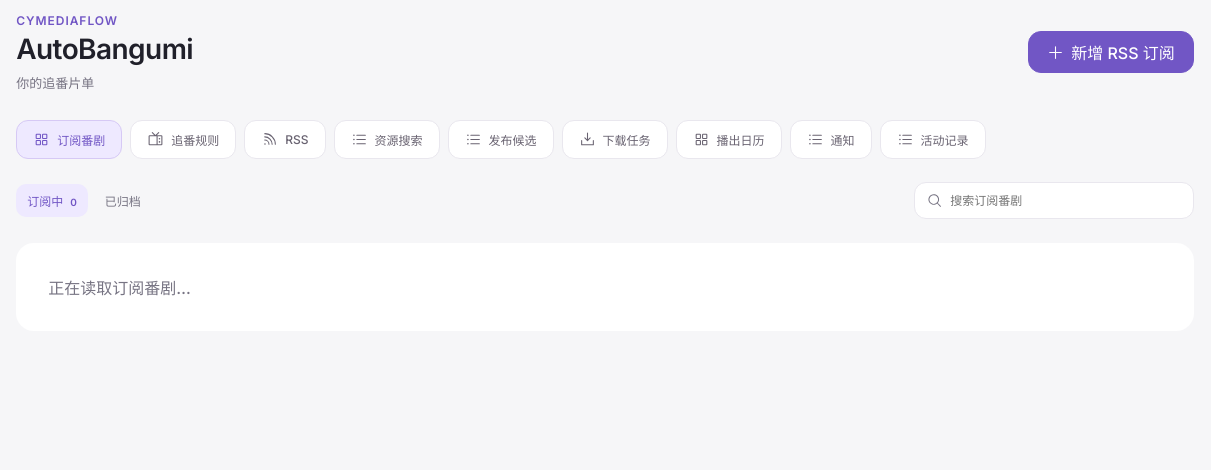
Test case: AutomationPage › keeps automation tasks under sub-tabs and explains release decisions
Click the tab "发布候选" at {"x": 500, "y": 139}, box [448,120,554,159]
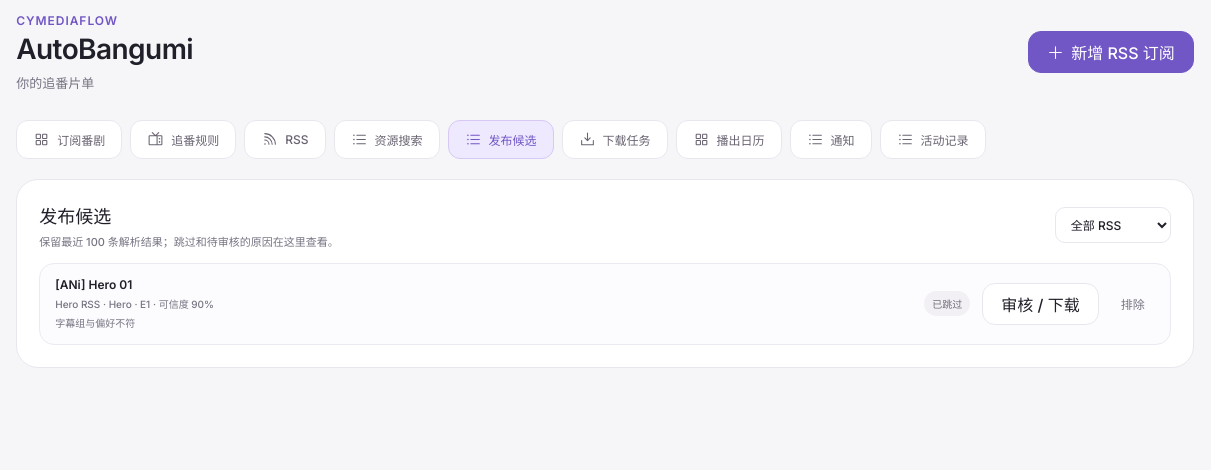
Result: the text "[ANi] Hero 01" is shown at [55,277,132,292]
Result: the text "字幕组与偏好不符" is shown at [55,317,135,329]
Click the tab "下载任务" at {"x": 614, "y": 139}, box [562,120,668,159]
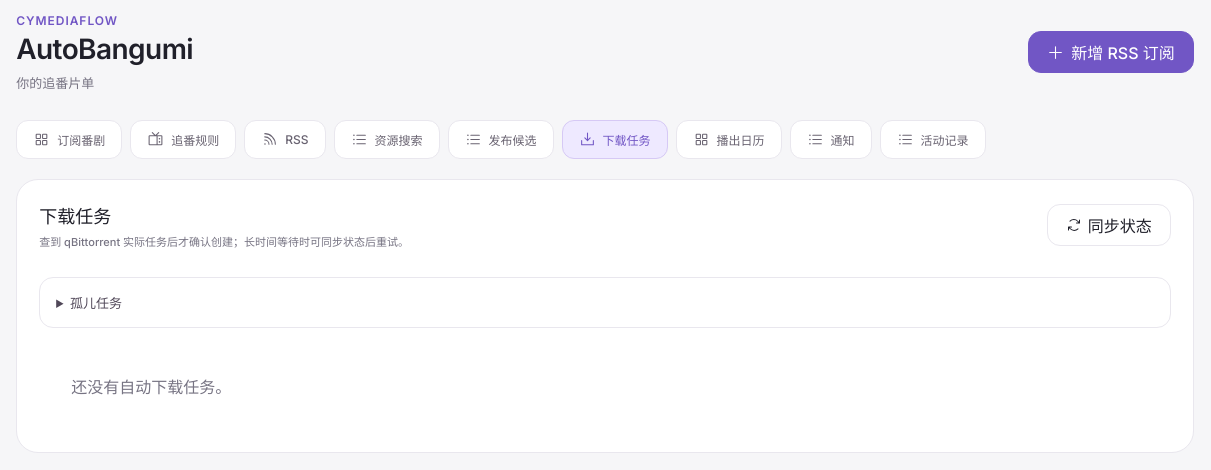
Result: the text "还没有自动下载任务。" is shown at [39,342,1171,430]
